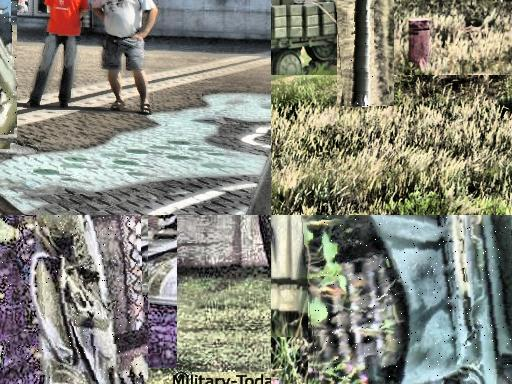tanks: (315, 216, 512, 384), (1, 216, 149, 384), (272, 1, 353, 76), (350, 1, 371, 107)
